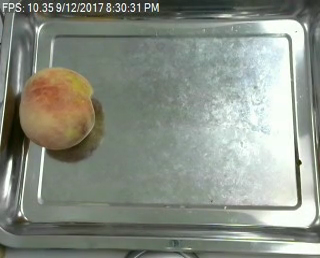Peach: (18, 65, 97, 150)
